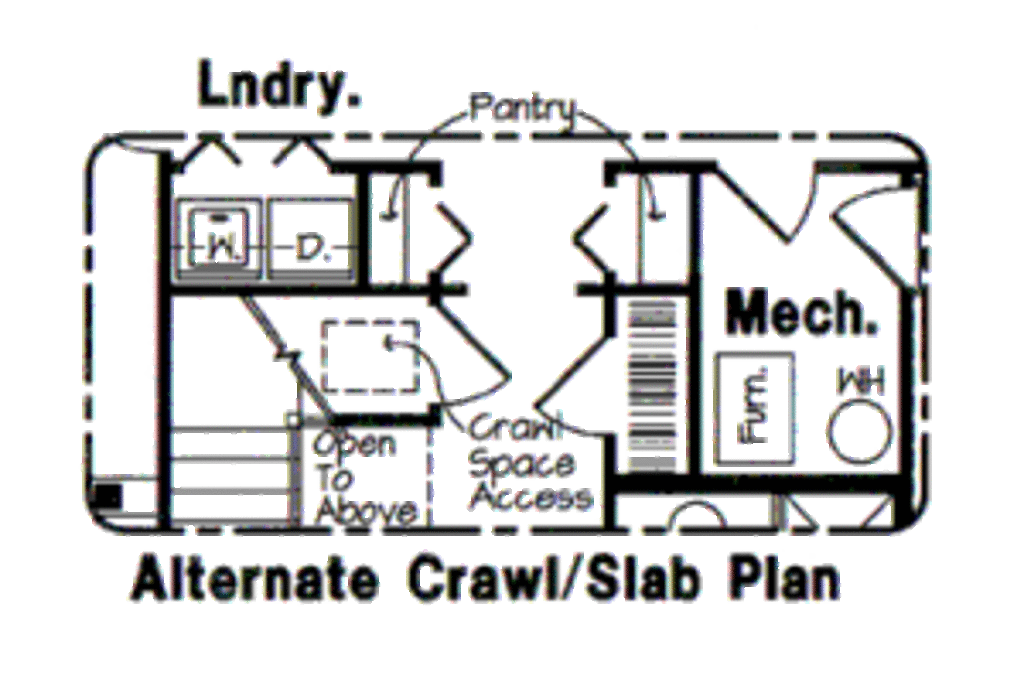door: (829, 182, 926, 288), (524, 328, 615, 439), (717, 153, 819, 246), (432, 308, 520, 405)
stairs: (162, 302, 326, 524)
